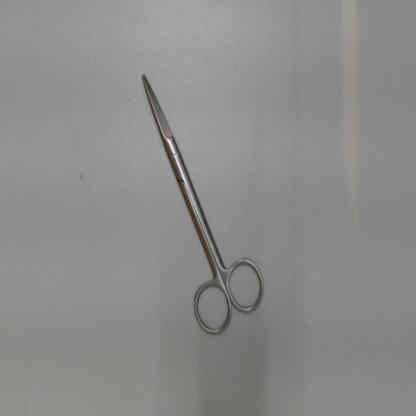Curved Mayo Scissors: (136, 65, 272, 343)
